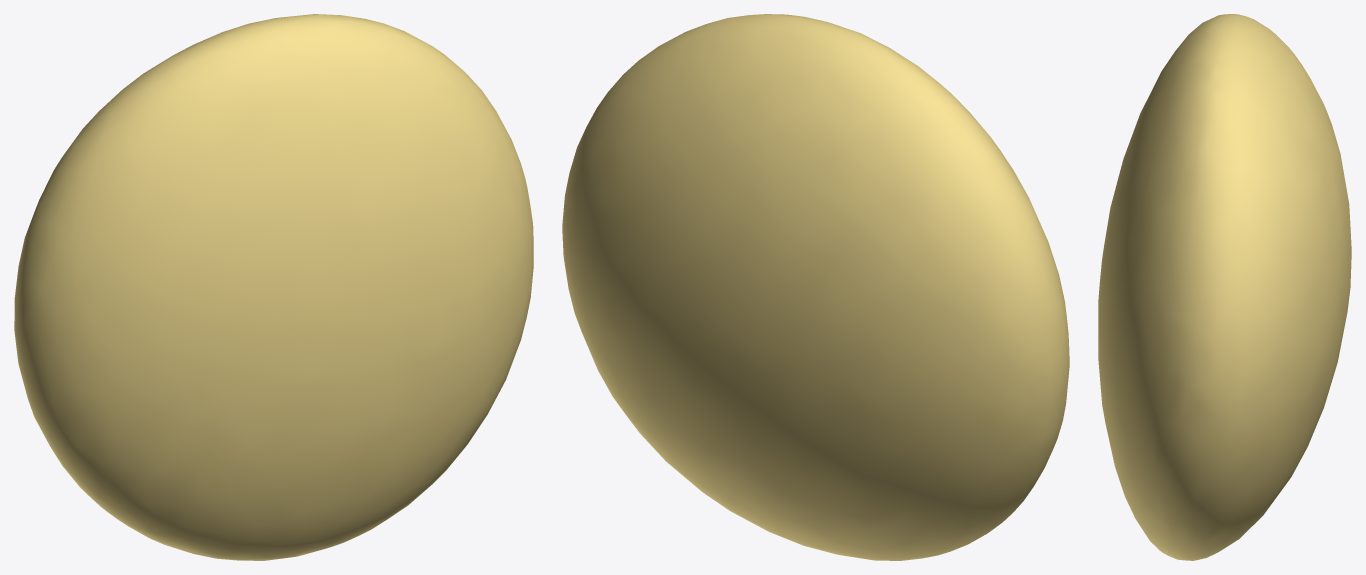
The picture shows the model from 3 angles, left to right: view 1: azimuth 30°, elevation 25°; view 2: azimuth 150°, elevation 25°; view 3: azimuth 270°, elevation 25°; orthographic projection. The views are drawn at different scales.
Visible parts, largest first — view 1: ZA_4339d36068e15606; view 2: ZA_4339d36068e15606; view 3: ZA_4339d36068e15606.
Boxes of the visible parts, x1,y1,x2,y2 form: ZA_4339d36068e15606: [14, 14, 533, 560]; ZA_4339d36068e15606: [562, 14, 1069, 560]; ZA_4339d36068e15606: [1098, 14, 1351, 560].
Size of the model in its own units: 0.0103 by 0.0104 by 0.00481.
